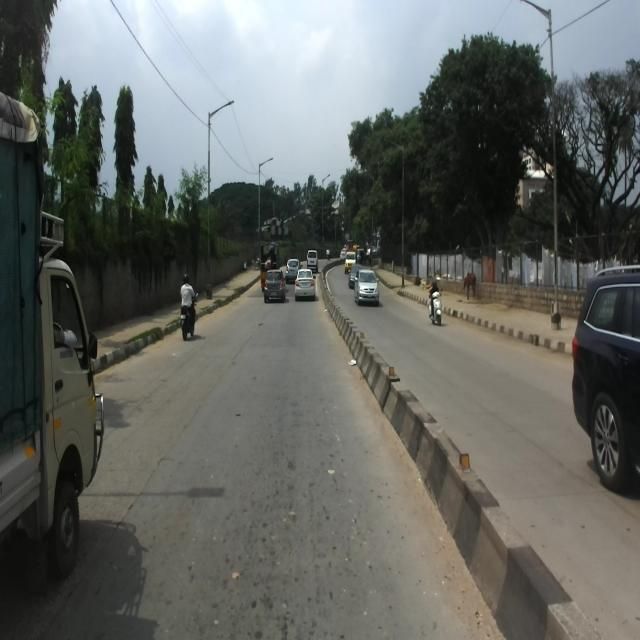Car_Maruti-Suzuki: (263, 269, 286, 302), (294, 268, 316, 302), (306, 249, 319, 273)
Car_Toyota: (354, 266, 380, 305)
scooter: (428, 290, 443, 323)
truck: (0, 93, 107, 607), (343, 238, 357, 274)
